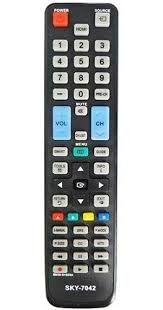remote control: (45, 8, 124, 310)
